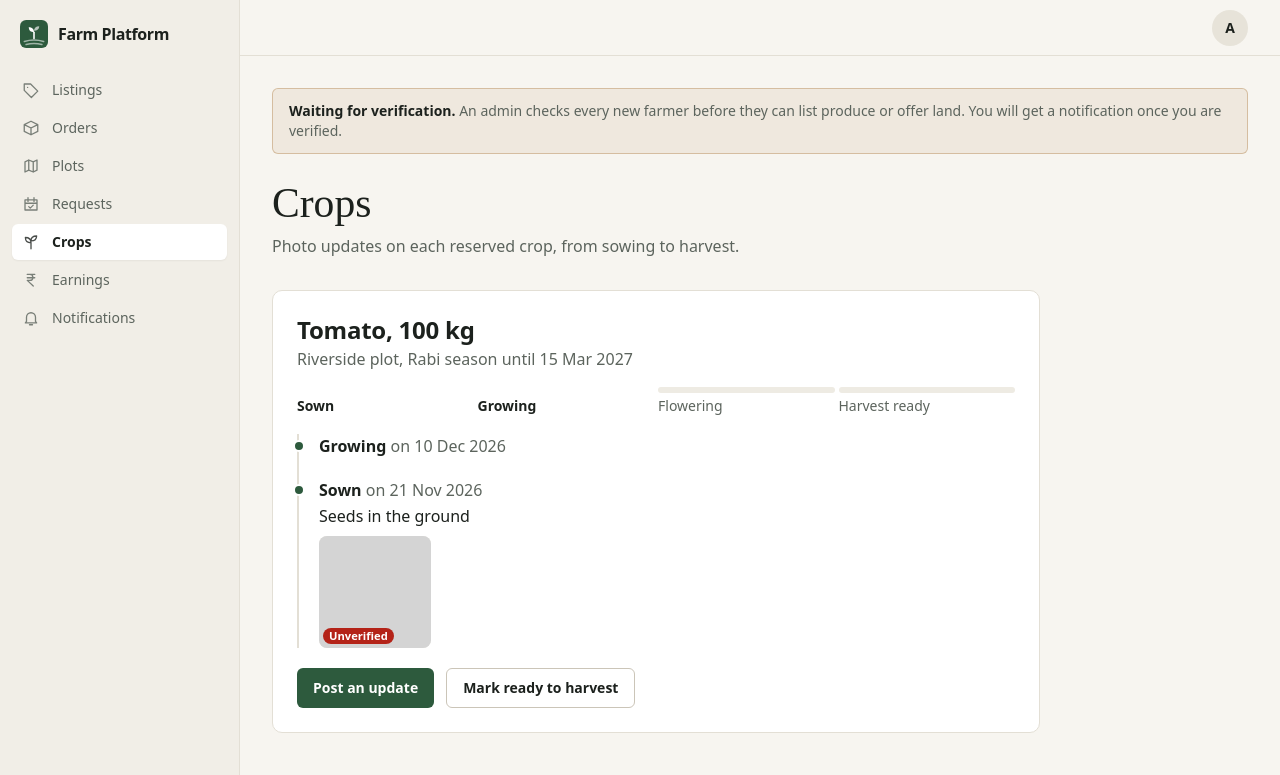
Test case: farmer crop updates › marks the harvest ready after confirming
Click the button "Mark ready to harvest" at (541, 688), box [446,668,636,708]
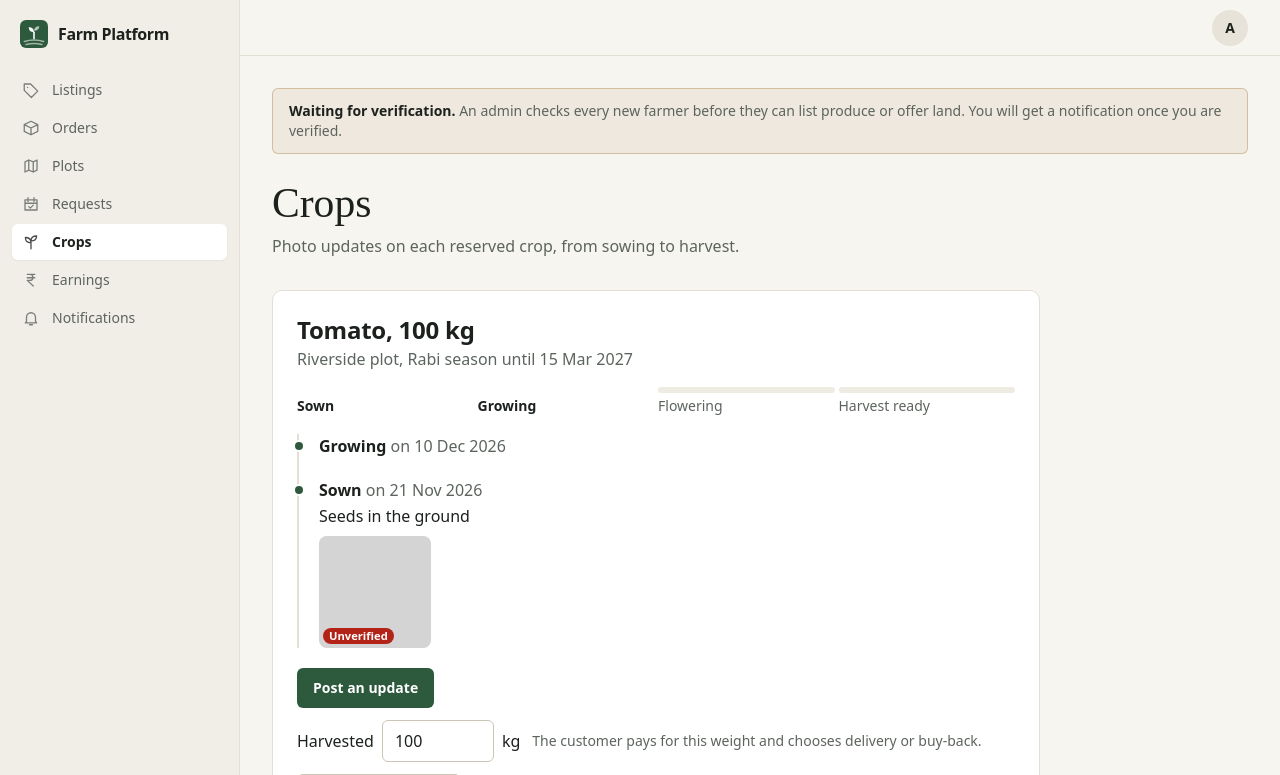
Replace the text in the number field labelled "Harvested kg" with "92" at (438, 742), box [382,720,494,762]
(page scrolled)
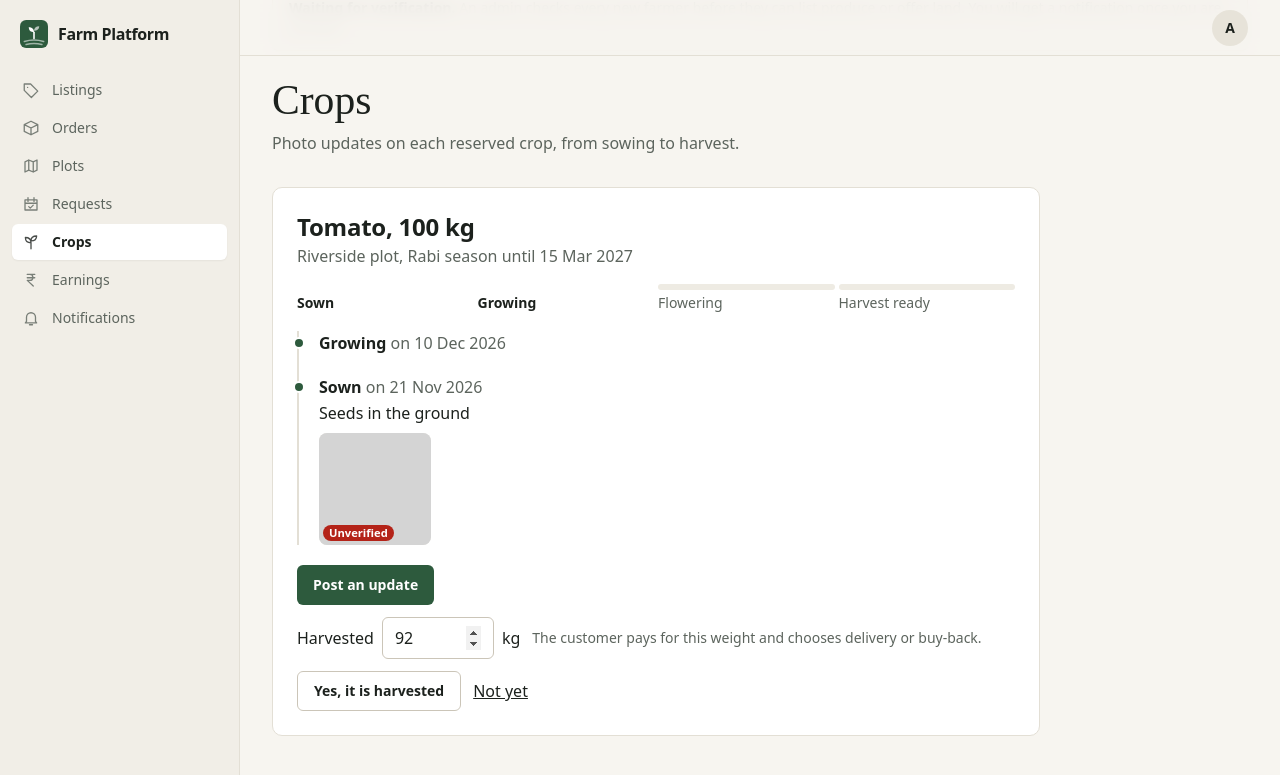
Click the button "Yes, it is harvested" at (379, 692), box [297,672,461,712]
(page scrolled)
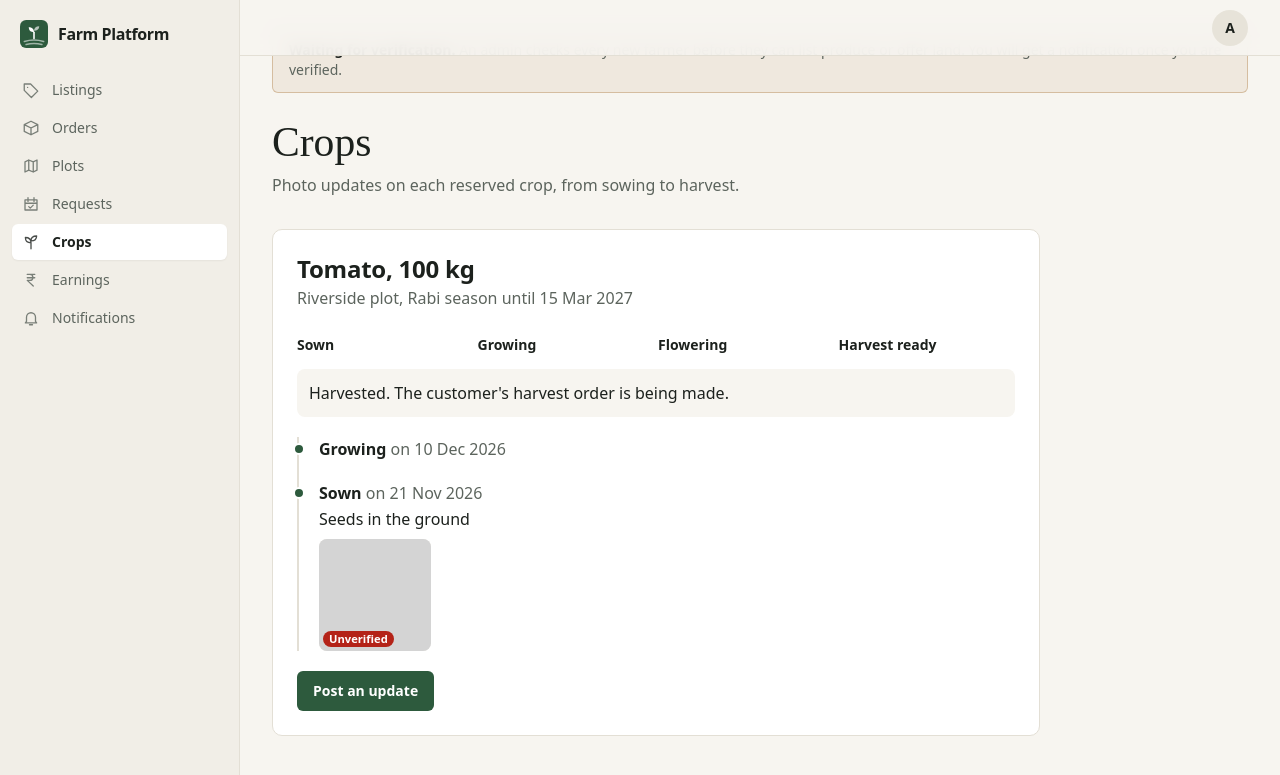
Expected: the button "Mark ready to harvest" is not shown
Now the text "Harvested. The customer's harvest order is being made." is shown, box [297,370,1015,418]
